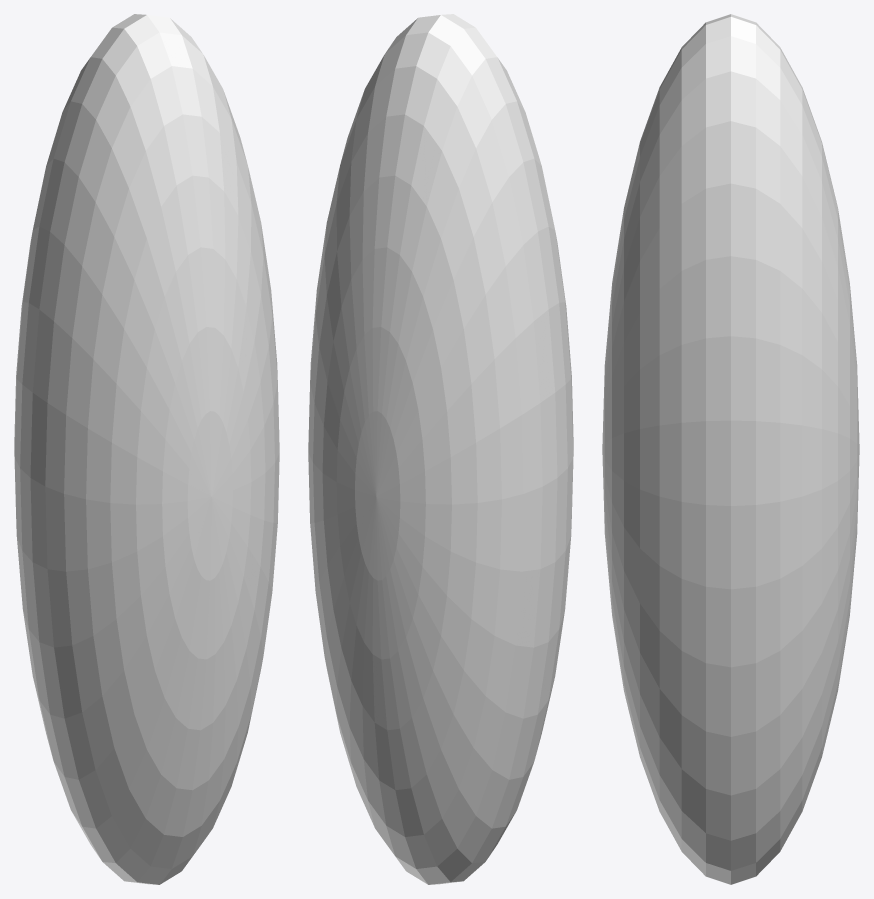
The model's file is Bullet02.glb.
The picture shows the model from 3 angles, left to right: view 1: azimuth 30°, elevation 25°; view 2: azimuth 150°, elevation 25°; view 3: azimuth 270°, elevation 25°; orthographic projection.
Parts seen in each view (by area): view 1: 球; view 2: 球; view 3: 球.
Part boxes in pixels (bbox=[...]): 球: bbox=[14, 14, 279, 884]; 球: bbox=[308, 14, 573, 884]; 球: bbox=[602, 14, 859, 884].
Size of the model in its own units: 2.13 by 7.61 by 2.05.
Materials: 1 (1 with a texture image).
